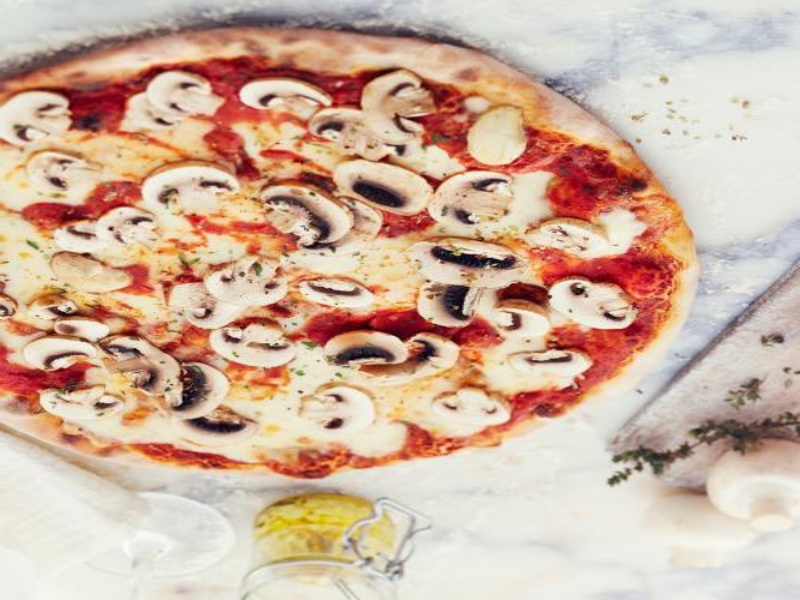champignon: (395, 230, 536, 291), (356, 61, 446, 149), (323, 160, 440, 223), (433, 164, 524, 240), (255, 180, 353, 249), (100, 327, 187, 404), (295, 377, 384, 446), (539, 276, 643, 335), (136, 158, 240, 216), (203, 316, 299, 378), (202, 254, 293, 316), (1, 80, 72, 153), (139, 69, 234, 123), (235, 75, 337, 125), (313, 103, 396, 163), (430, 380, 517, 432), (317, 330, 416, 373), (12, 332, 104, 373), (93, 204, 165, 256), (507, 344, 594, 384), (297, 273, 376, 313)
